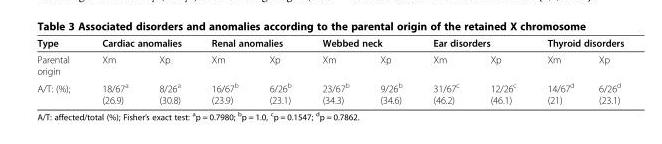table: (36, 36, 623, 105)
table column: (85, 36, 143, 105), (195, 36, 253, 105), (306, 36, 364, 105), (417, 36, 474, 105), (474, 36, 531, 105), (531, 36, 585, 105), (253, 36, 306, 105), (364, 36, 417, 105), (143, 36, 195, 105), (36, 36, 85, 105), (585, 36, 623, 105)
table column header: (36, 36, 623, 78)
table row: (36, 50, 623, 78), (36, 78, 623, 105), (36, 36, 623, 50)
table spanning cell: (36, 36, 85, 78), (417, 36, 531, 50), (195, 36, 306, 50), (306, 36, 417, 50), (85, 36, 195, 50), (531, 36, 623, 50)
